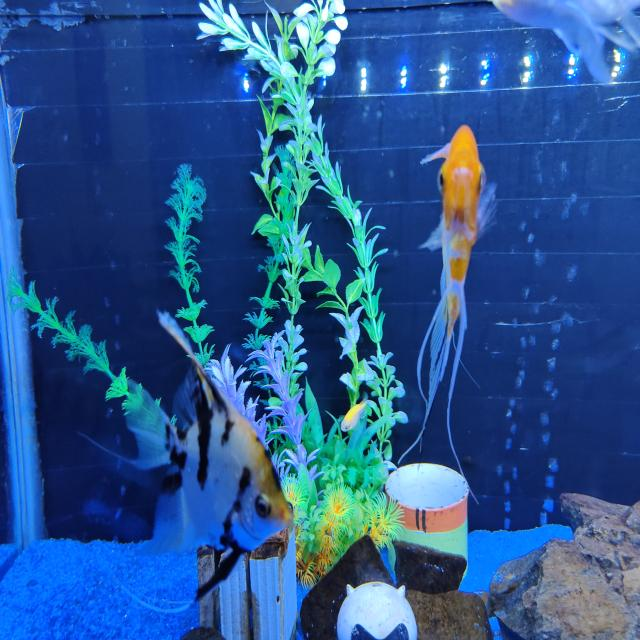Fish: (125, 313, 292, 598), (398, 125, 495, 475), (493, 0, 639, 83), (341, 398, 369, 432)
